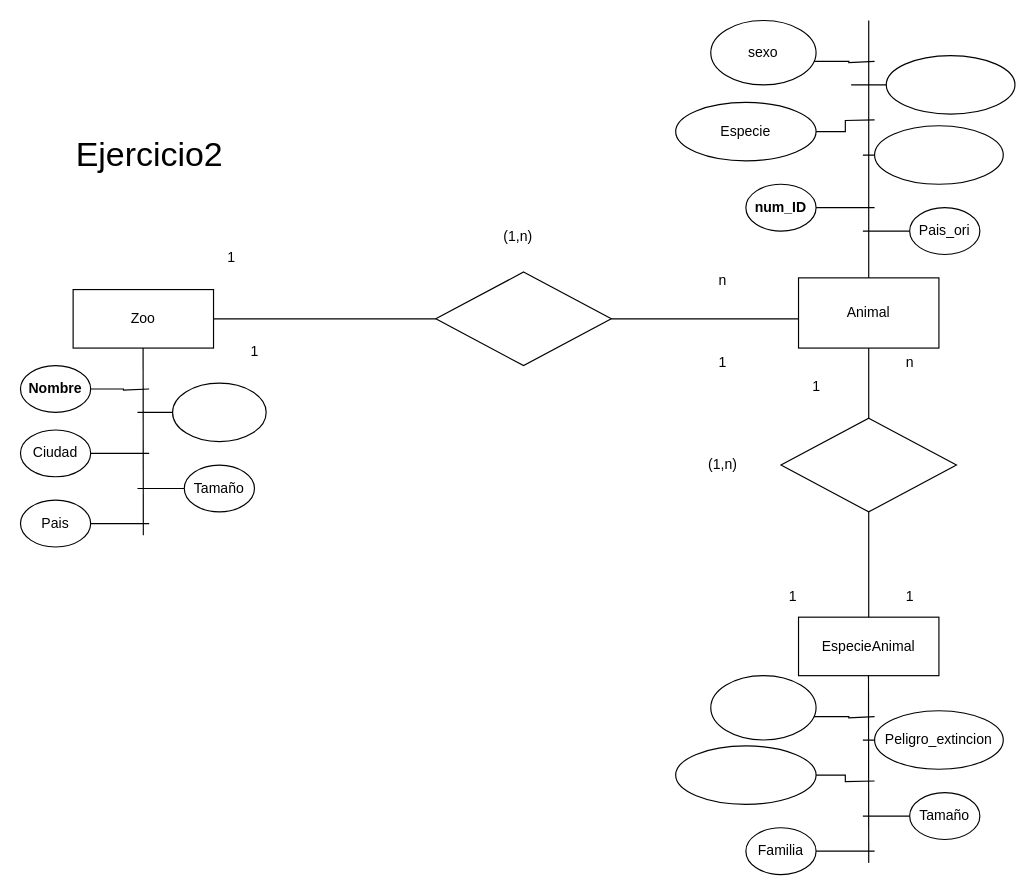
The diagram is 1035 pixels wide and 895 high, and some of its shapes have lost their labels. Each missing label, with the box of its shape:
anio_nac: (873, 125, 1003, 184)
contintent_org: (885, 54, 1015, 114)
Nombre_cientifico: (675, 745, 816, 804)
Nombre_vulgar: (710, 675, 816, 740)
Pertenece: (780, 417, 956, 512)
Presupuesto: (171, 382, 266, 442)
Tiene: (435, 271, 611, 366)
